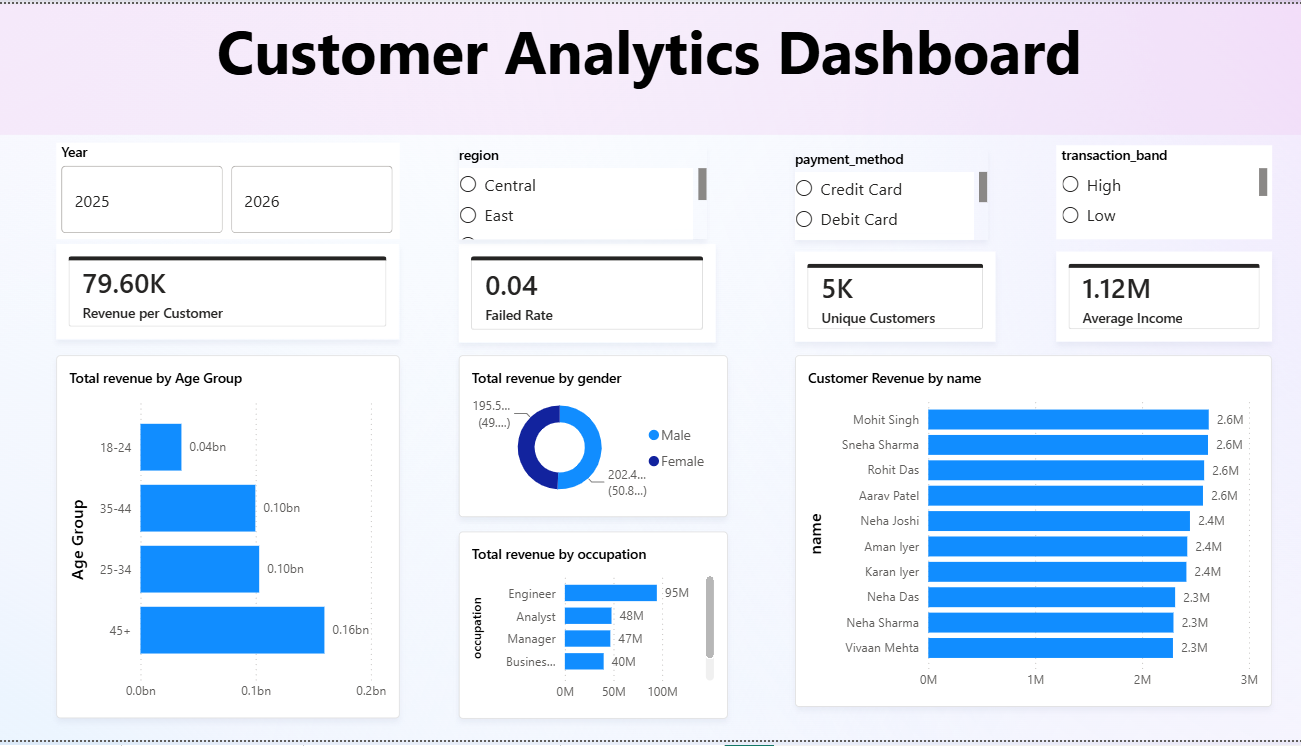

Layout of this report page (visuals, bound fields, positions):
{"tool":"powerbi","page":{"name":"Customer Analytics","canvas":[1280,720],"ordinal":1},"visuals":[{"type":"textbox","box":[0,0,1280.3,128.4],"z":0},{"type":"cardVisual","fields":{"Data":["banking_master.Revenue per Customer"]},"box":[59.6,234.8,336,93.3],"z":1000},{"type":"cardVisual","fields":{"Data":["banking_master.Unique Customers"]},"box":[783.1,242.7,196.6,88.8],"z":2000},{"type":"cardVisual","fields":{"Data":["banking_master.Average Income"]},"box":[1038.2,242.7,211.2,88.8],"z":3000},{"type":"clusteredBarChart","fields":{"Category":["banking_master.Age Group"],"Y":["banking_master.Total revenue"]},"box":[59.6,343.8,336,355.1],"z":4000},{"type":"cardVisual","fields":{"Data":["banking_master.Failed Rate"]},"box":[453.9,234.8,251.7,96.6],"z":5000},{"type":"clusteredBarChart","fields":{"Category":["banking_master.occupation"],"Y":["banking_master.Total revenue"]},"box":[453.9,515.7,262.9,183.1],"z":6000},{"type":"donutChart","fields":{"Category":["banking_master.gender"],"Y":["banking_master.Total revenue"]},"box":[453.9,343.8,262.9,158.4],"z":7000},{"type":"clusteredBarChart","fields":{"Category":["banking_master.name"],"Y":["banking_master.Customer Revenue"]},"box":[783.1,343.8,466.3,343.8],"z":8000},{"type":"advancedSlicerVisual","fields":{"Values":["Calendar.Date.Variation.Date Hierarchy.Year"]},"box":[59.6,136,336,94.4],"z":9000},{"type":"listSlicer","fields":{"Values":["banking_master.region"]},"box":[453.9,138.2,242.7,92.1],"z":10000},{"type":"listSlicer","fields":{"Values":["banking_master.payment_method"]},"box":[783.1,141.6,188.8,88.8],"z":11000},{"type":"listSlicer","fields":{"Values":["banking_master.transaction_band"]},"box":[1038.2,138.2,211.2,92.1],"z":12000}]}

Visuals, with their boxes in screenshot pixels (x1, y1, x2, y2), scaled from the page's 1280x720 canvas onto the 1301x746 screenshot:
textbox: [0, 0, 1300, 133]
cardVisual - banking_master.Revenue per Customer: [61, 243, 402, 340]
cardVisual - banking_master.Unique Customers: [796, 251, 996, 343]
cardVisual - banking_master.Average Income: [1055, 251, 1270, 343]
clusteredBarChart - banking_master.Age Group x banking_master.Total revenue: [61, 356, 402, 724]
cardVisual - banking_master.Failed Rate: [461, 243, 717, 343]
clusteredBarChart - banking_master.occupation x banking_master.Total revenue: [461, 534, 729, 724]
donutChart - banking_master.gender x banking_master.Total revenue: [461, 356, 729, 520]
clusteredBarChart - banking_master.name x banking_master.Customer Revenue: [796, 356, 1270, 712]
advancedSlicerVisual - Calendar.Date.Variation.Date Hierarchy.Year: [61, 141, 402, 239]
listSlicer - banking_master.region: [461, 143, 708, 239]
listSlicer - banking_master.payment_method: [796, 147, 988, 239]
listSlicer - banking_master.transaction_band: [1055, 143, 1270, 239]
